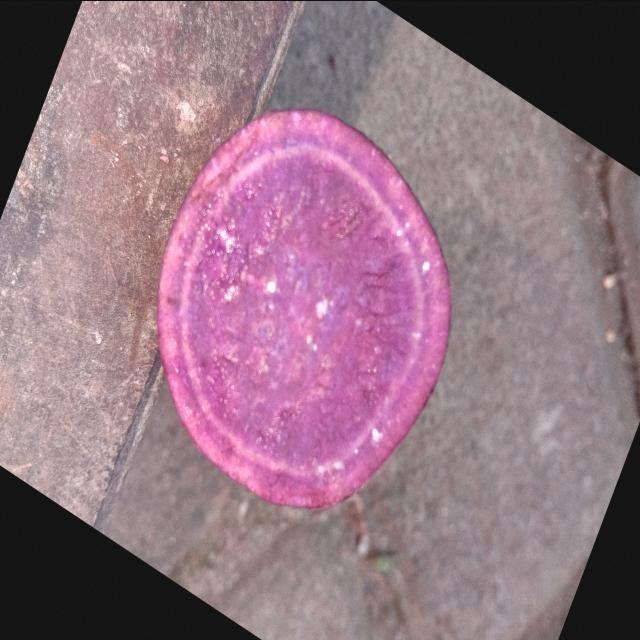Healthy Sweet Potato: (158, 108, 451, 507)
